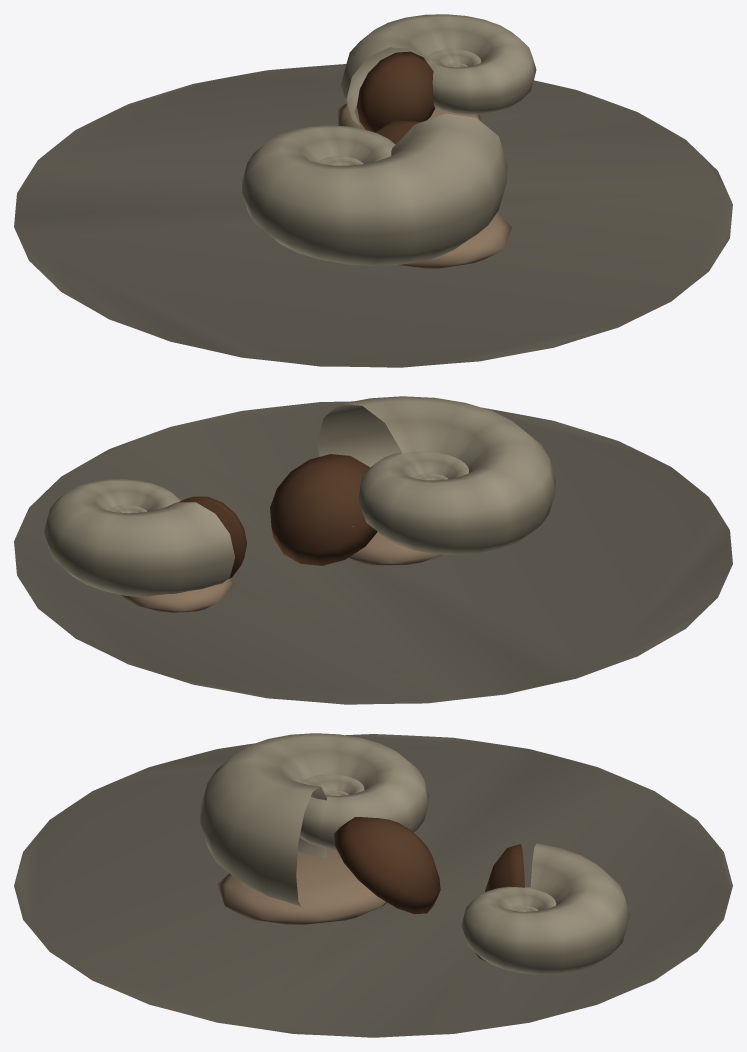
The model's file is MacluritesMagnus.fbx.
3 views of the same model, one above another, from view 1: azimuth 30°, elevation 25°; view 2: azimuth 150°, elevation 25°; view 3: azimuth 270°, elevation 25° (orthographic).
Visible parts, largest first — view 1: MacluritesMagnus; view 2: MacluritesMagnus; view 3: MacluritesMagnus.
Boxes of the visible parts, box(x1,y1,x2,y2) form: MacluritesMagnus: box(14, 14, 732, 367); MacluritesMagnus: box(14, 396, 732, 704); MacluritesMagnus: box(14, 733, 732, 1037).
Size of the model in its own units: 2.1 by 0.4092 by 2.1.
